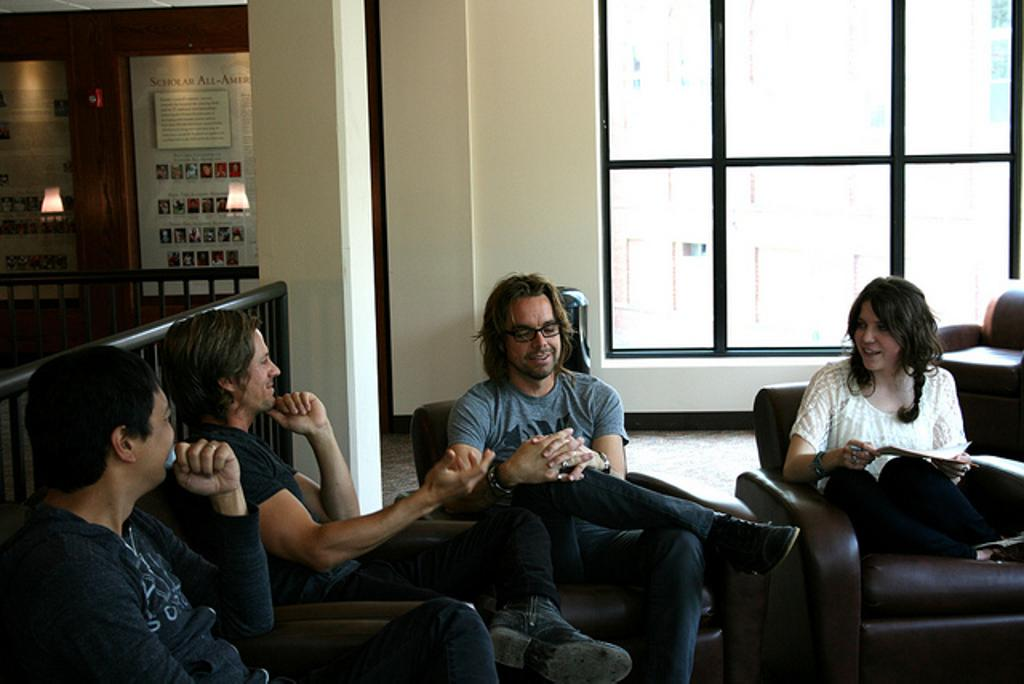face: (505, 300, 561, 378), (131, 391, 174, 483), (233, 330, 280, 411), (853, 301, 898, 370)
